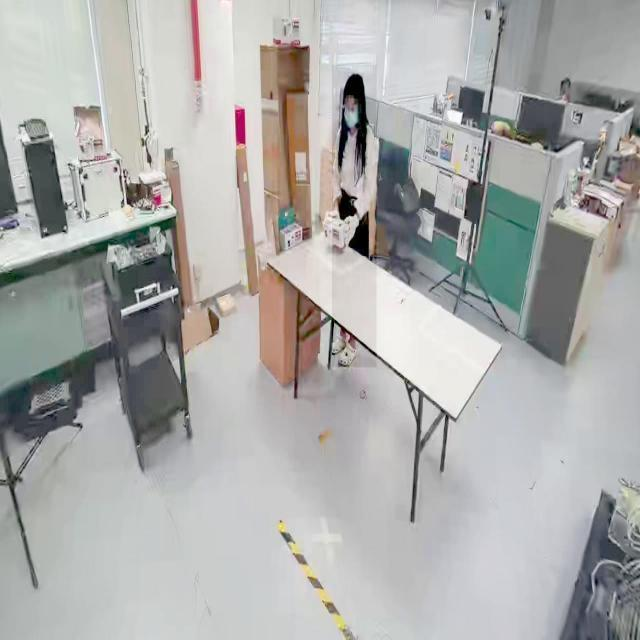gloves: (343, 214, 361, 246)
